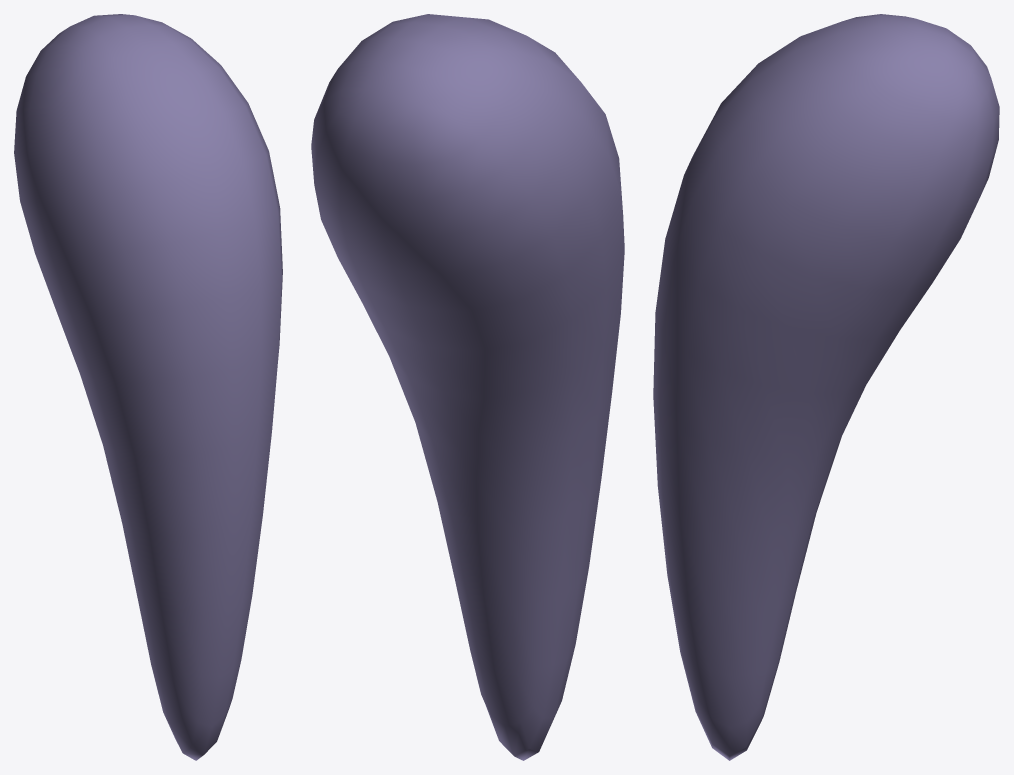
File: Gras_02.fbx
The picture shows the model from 3 angles, left to right: view 1: azimuth 30°, elevation 25°; view 2: azimuth 150°, elevation 25°; view 3: azimuth 270°, elevation 25°; orthographic projection. The views are drawn at different scales.
Parts seen in each view (by area): view 1: Cube.001; view 2: Cube.001; view 3: Cube.001.
Part boxes in pixels (x1,y1,x2,y2): Cube.001: [14, 14, 282, 760]; Cube.001: [311, 14, 624, 760]; Cube.001: [653, 14, 999, 760].
Bounding box in the file's own units: 71.79 × 216 × 92.34.
